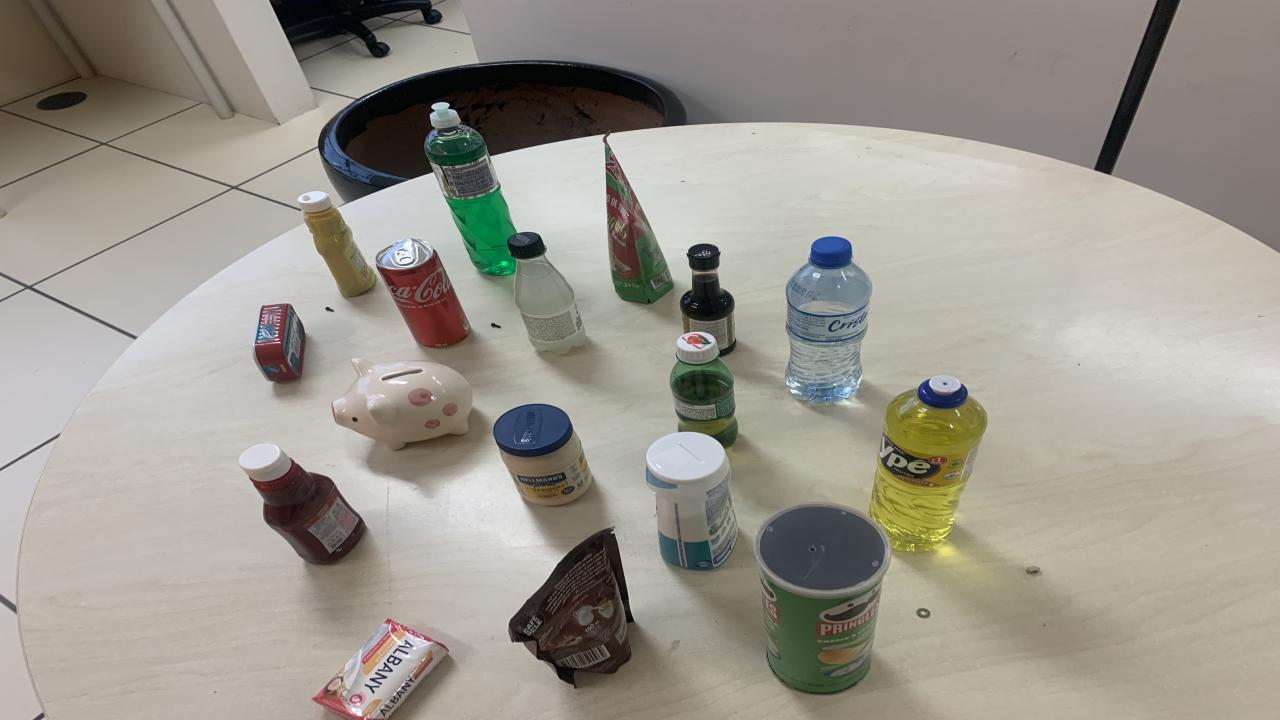Cleaner-Cleanup_Items: (645, 431, 738, 570)
Coffee-Pantry_Items: (510, 529, 630, 682)
Coke-Drinks: (375, 238, 470, 347), (712, 300, 715, 304)
Detergent-Cleanup_Items: (870, 375, 988, 551), (425, 103, 515, 276)
English_Sauce-Pantry_Items: (680, 244, 735, 356)
Guarana-Drinks: (670, 332, 738, 448)
Ketchup-Pantry_Items: (240, 444, 365, 564)
Mayonnaise-Pantry_Items: (492, 403, 592, 506)
Mustard-Pantry_Items: (298, 191, 375, 296)
Pig_Safe-Miscellaneous: (330, 358, 472, 450)
Pringles-Snacks: (755, 504, 890, 694), (670, 358, 738, 448)
Soap-Cleanup_Items: (312, 619, 448, 718)
Soda-Drinks: (508, 232, 585, 354)
Tomato_Sauce-Pantry_Items: (602, 135, 672, 304)
Tuna_Can-Pantry_Items: (252, 304, 305, 382)
Water_Bottle-Drinks: (785, 236, 872, 403)
